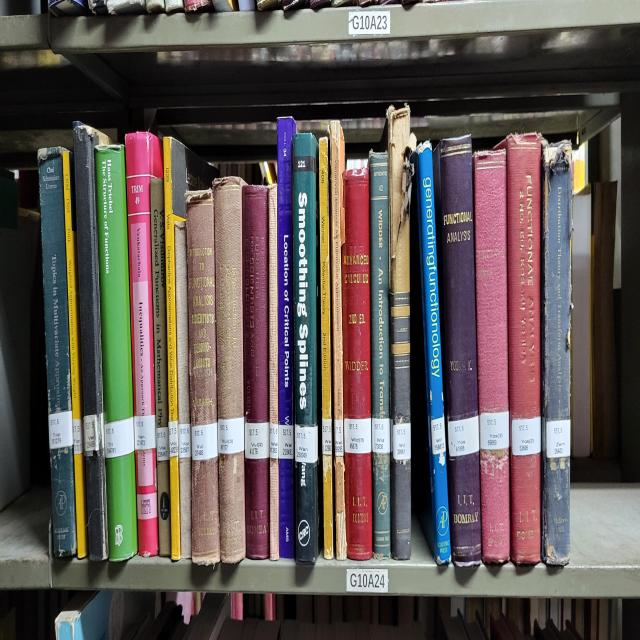Book: (164, 138, 218, 560), (496, 133, 541, 565), (436, 135, 481, 565), (95, 146, 138, 560), (472, 149, 510, 563), (125, 133, 162, 555), (74, 122, 109, 560), (39, 149, 76, 557), (416, 143, 451, 565), (212, 176, 246, 563), (541, 141, 572, 565), (185, 189, 220, 563), (388, 108, 415, 560), (341, 168, 372, 560), (292, 133, 318, 563), (62, 152, 88, 557), (242, 187, 270, 560), (369, 152, 390, 557), (150, 179, 171, 557), (278, 116, 296, 557), (329, 122, 346, 560), (319, 138, 334, 560), (269, 184, 279, 560)
Label: (104, 417, 135, 457), (448, 417, 479, 457), (511, 417, 541, 455), (480, 411, 509, 449), (191, 422, 218, 460), (344, 417, 371, 455), (218, 417, 244, 455), (245, 422, 269, 460), (546, 419, 570, 457), (49, 411, 72, 449), (295, 425, 318, 463), (134, 414, 156, 449), (371, 417, 390, 455), (392, 422, 411, 460), (84, 414, 99, 455), (430, 417, 446, 455), (279, 425, 294, 460), (156, 427, 170, 460), (72, 419, 84, 455), (179, 422, 191, 457), (169, 419, 179, 457), (269, 422, 279, 460), (334, 419, 344, 457), (322, 419, 332, 455)
